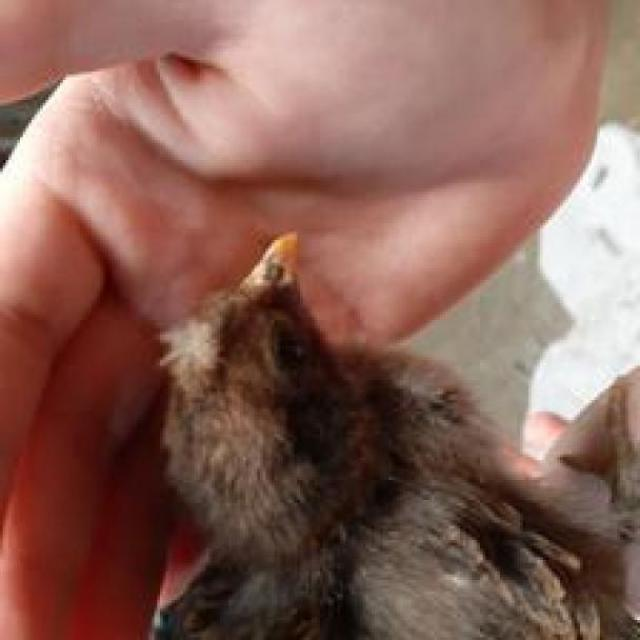Chicken: (162, 231, 640, 640)
